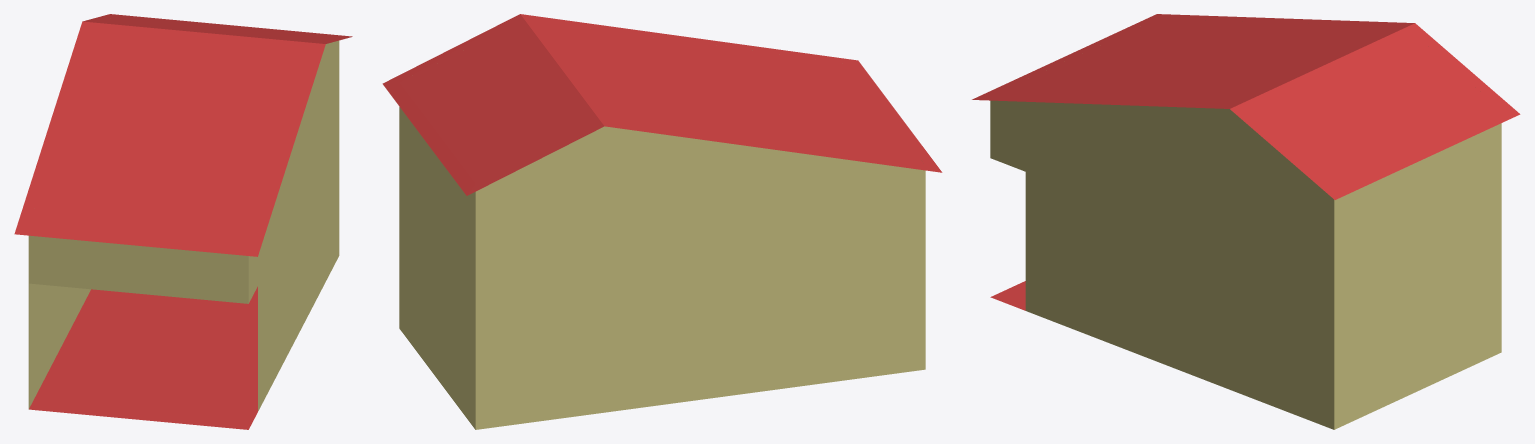
3 renders of one model, left to right at view 1: azimuth 30°, elevation 25°; view 2: azimuth 150°, elevation 25°; view 3: azimuth 270°, elevation 25°, orthographic. The views are drawn at different scales.
Bounding box in the file's own units: 20.15 × 20.67 × 11.97.
